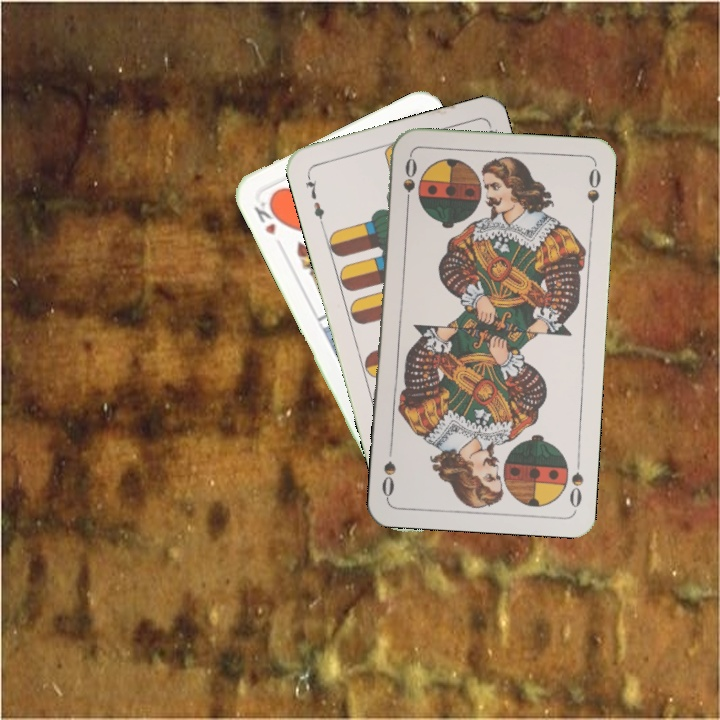E7: (301, 170, 327, 228)
HK: (250, 195, 285, 238)
SO: (565, 452, 586, 510), (399, 152, 419, 211)
